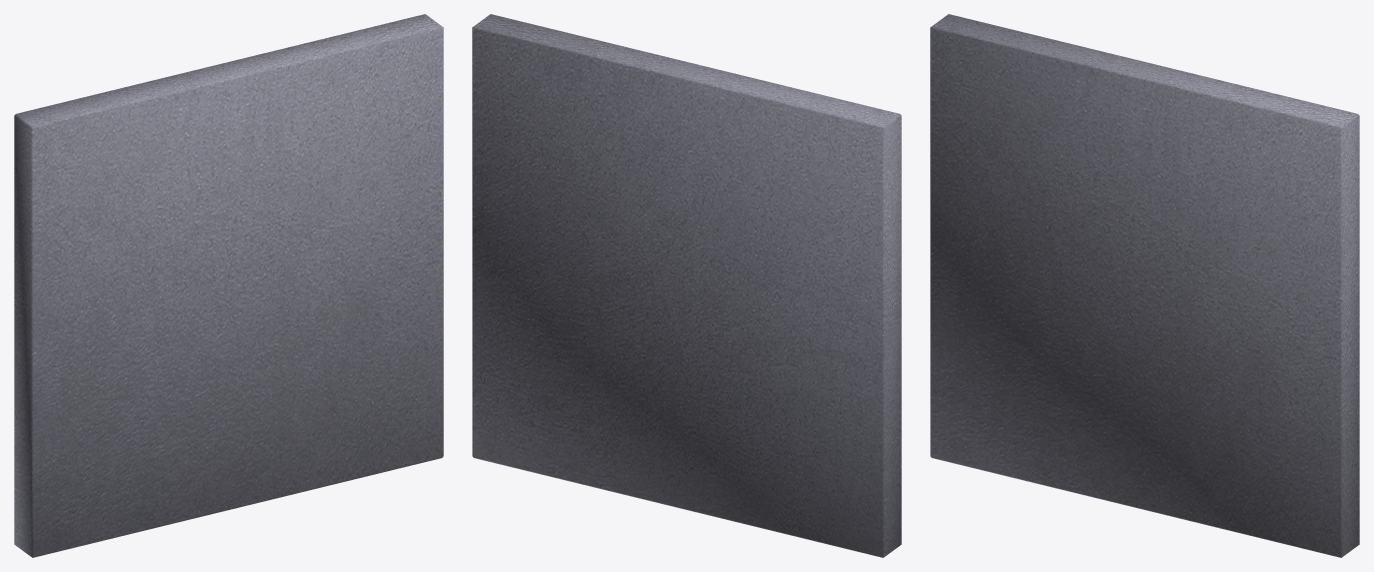
The model's file is ConcreteWall_SM.FBX.
3 renders of one model, left to right at view 1: azimuth 30°, elevation 25°; view 2: azimuth 150°, elevation 25°; view 3: azimuth 330°, elevation 25°, orthographic.
Parts seen in each view (by area): view 1: Wall_SM; view 2: Wall_SM; view 3: Wall_SM.
Part boxes in pixels (box(x1,y1,x2,y2)): Wall_SM: box(14, 14, 443, 557); Wall_SM: box(472, 14, 901, 557); Wall_SM: box(930, 14, 1359, 557).
Bounding box in the file's own units: 325 × 325 × 25.4.
